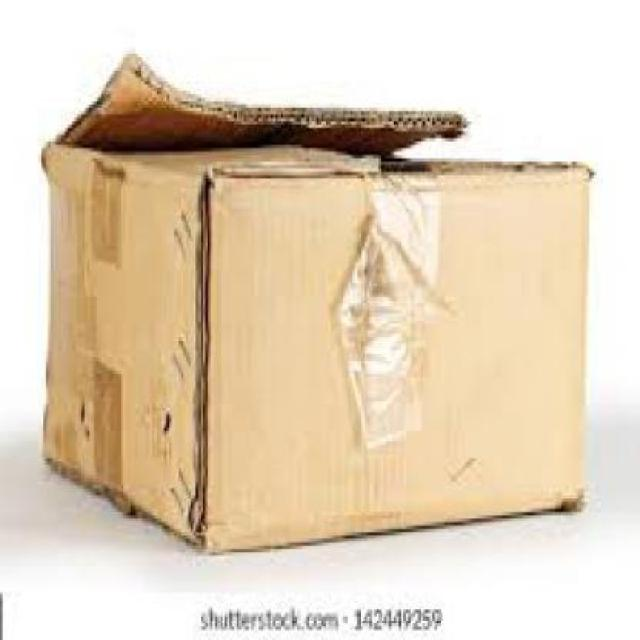box: (39, 48, 592, 546)
